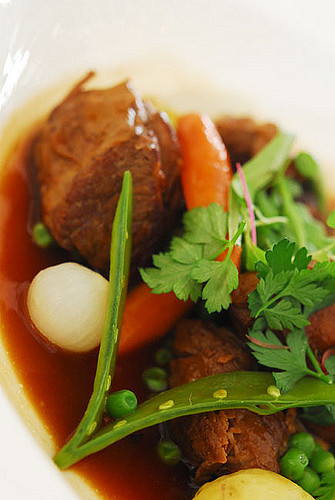boiled peas: (296, 435, 327, 490)
chopped lettuce: (256, 288, 298, 357)
meatballs: (55, 99, 160, 221)
